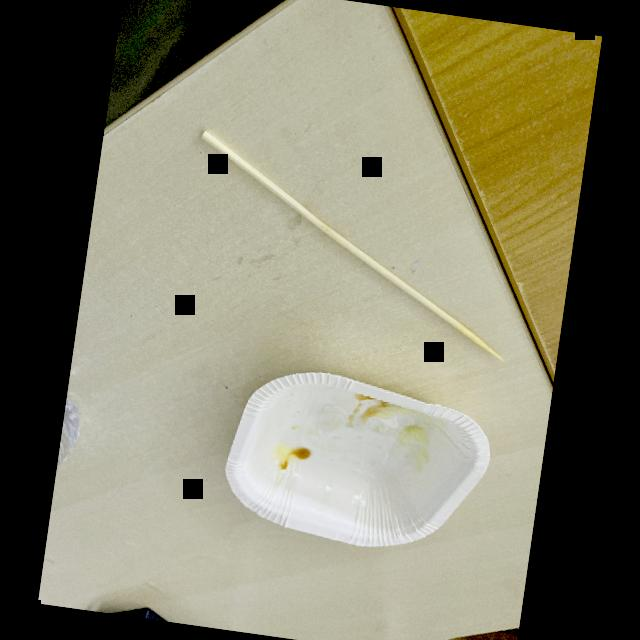cardboard_bowl: (200, 350, 497, 571)
stick: (170, 130, 530, 370)
